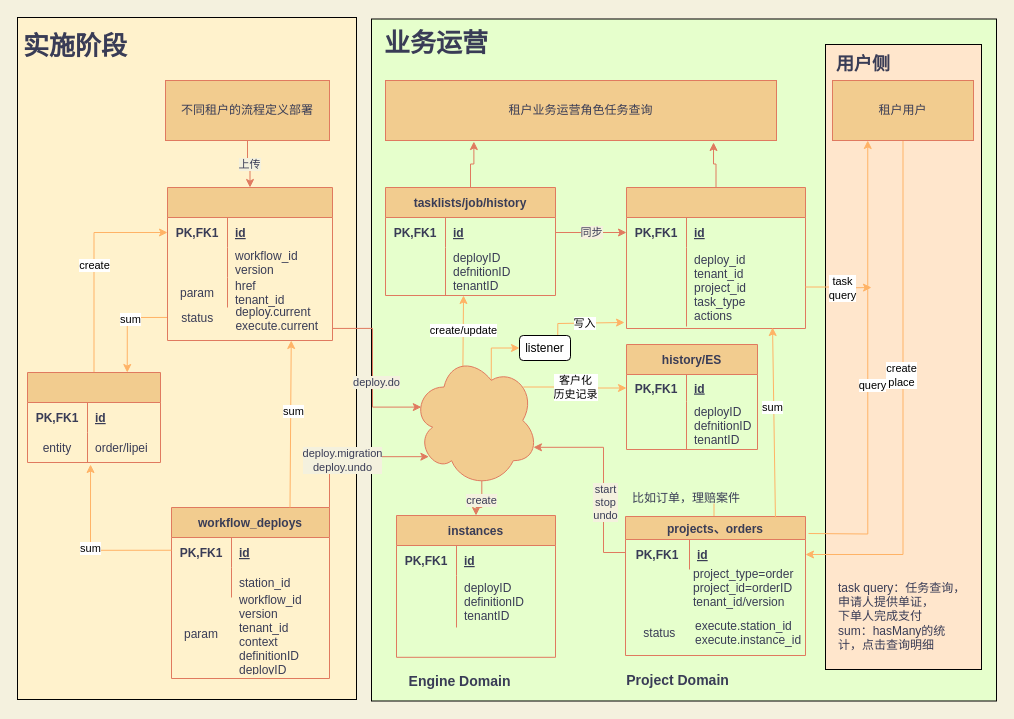
This 1014x719 diagram has some shape labels left out. Each missing label, with the box of its shape:
BPMN Engine: (412, 352, 538, 488)
project_tasks: (626, 186, 806, 328)
workflow_defs: (166, 186, 332, 340)
workflows: (26, 372, 160, 462)
